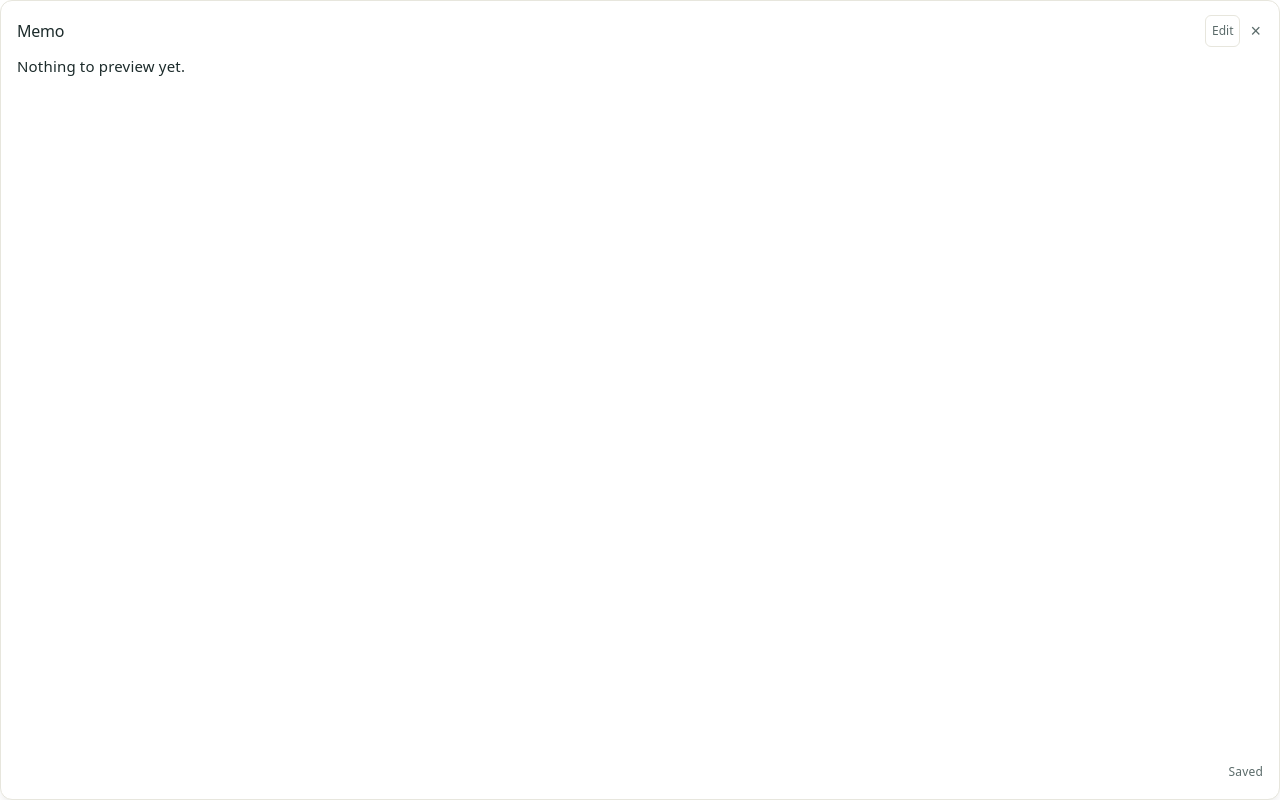
Test: saving the note › shows Saved at first and Unsaved changes after typing
Expected: the text "Saved" is shown, [1228, 763, 1263, 780]
Click the button with aria-label "Edit note" at (1223, 31), box [1205, 15, 1240, 47]
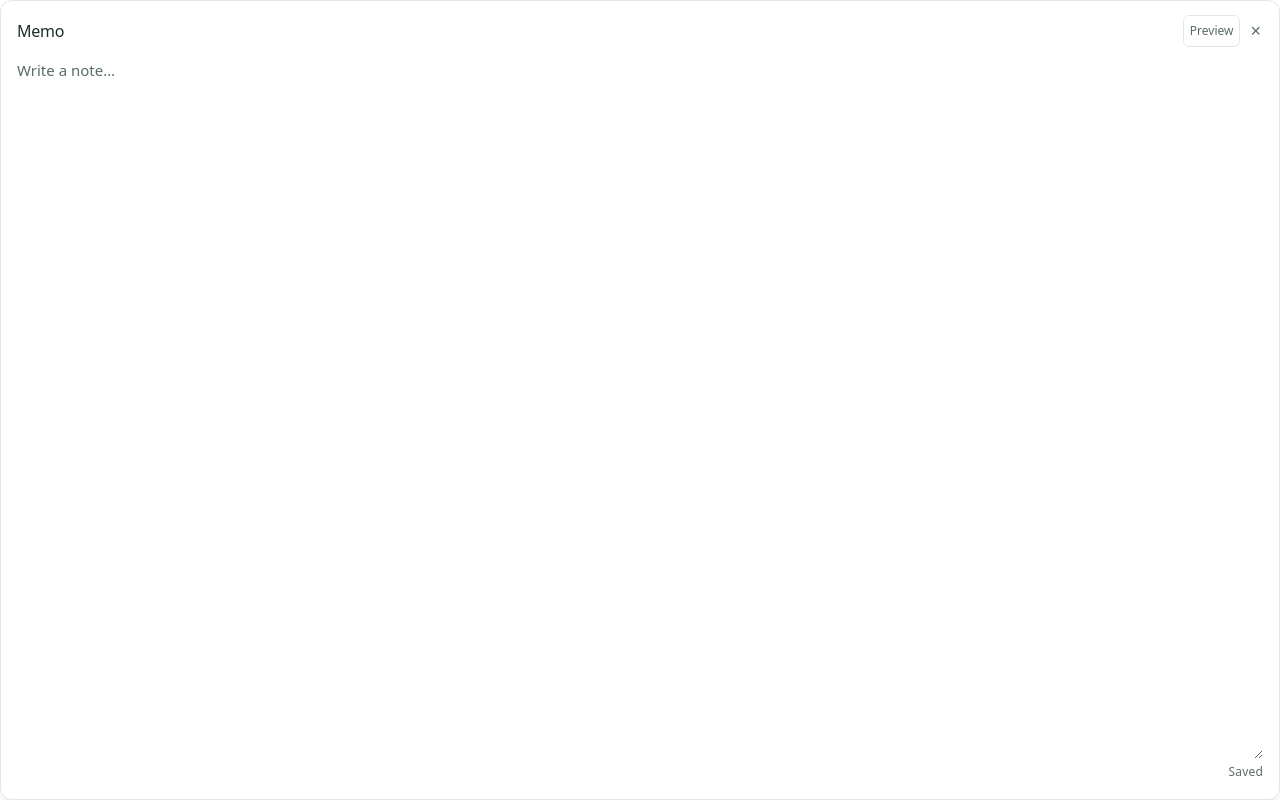
Type "x" into the text box named "Sticky note Markdown" at (640, 407), box [17, 55, 1263, 759]
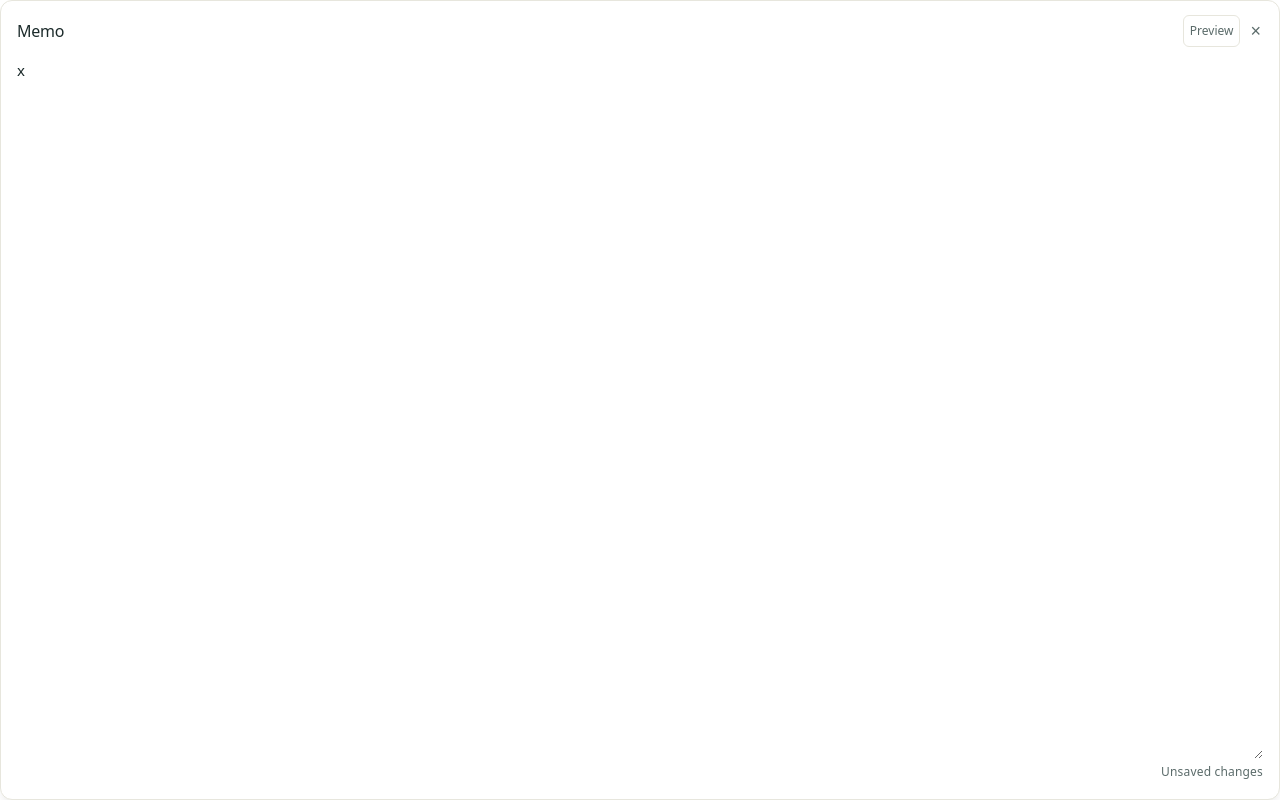
Now the text "Unsaved changes" is shown, box [1161, 763, 1263, 780]
